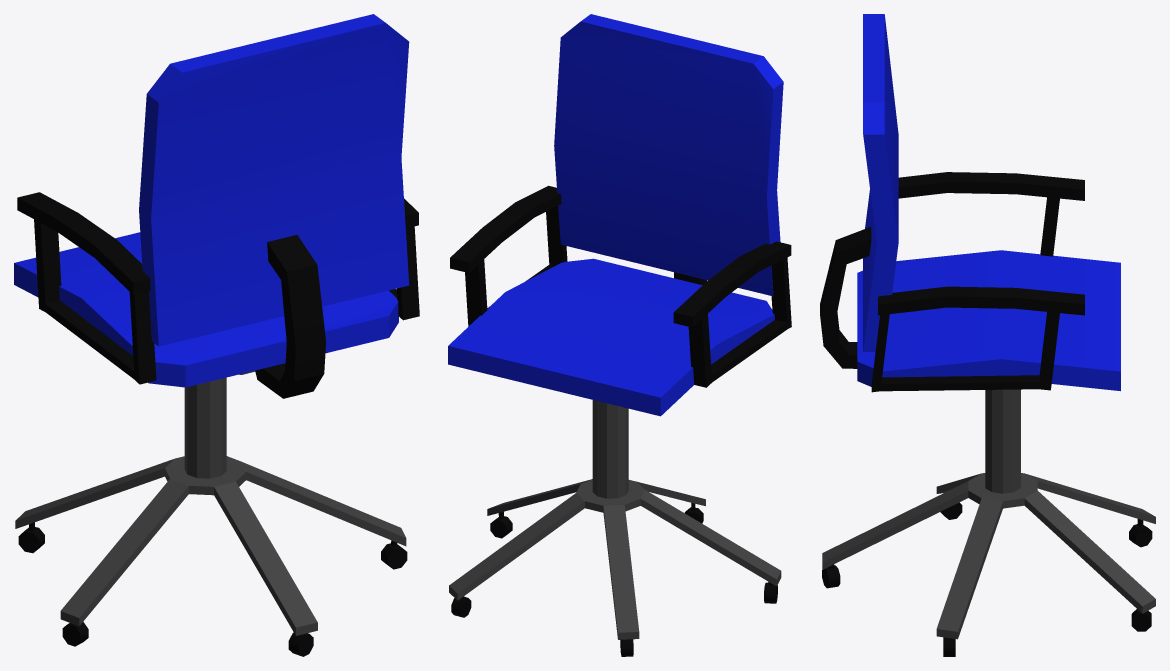
Rendered from Silla.FBX.
The picture shows the model from 3 angles, left to right: view 1: azimuth 30°, elevation 25°; view 2: azimuth 150°, elevation 25°; view 3: azimuth 270°, elevation 25°; orthographic projection. The views are drawn at different scales.
Parts seen in each view (by area): view 1: Silla; view 2: Silla; view 3: Silla.
Boxes of the visible parts, x1=… form: Silla: x1=14, y1=14, x2=419, y2=656; Silla: x1=448, y1=14, x2=791, y2=656; Silla: x1=820, y1=14, x2=1155, y2=656.
Bounding box in the file's own units: 2.64 × 4.39 × 2.53.
